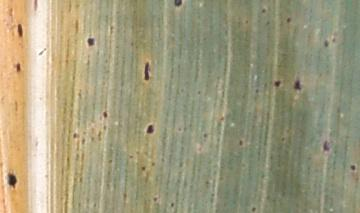tarspot: (6, 172, 18, 188), (142, 61, 151, 81), (16, 21, 24, 37), (86, 36, 96, 47), (322, 140, 331, 152), (145, 124, 155, 134), (293, 79, 302, 90), (14, 61, 22, 73), (274, 78, 282, 87), (200, 129, 208, 138), (174, 1, 183, 8), (285, 15, 292, 24), (323, 38, 330, 47), (237, 138, 244, 147), (102, 109, 108, 119), (32, 1, 38, 11), (350, 163, 357, 171), (250, 206, 257, 213), (169, 201, 176, 208), (261, 5, 267, 13), (152, 196, 158, 202), (141, 165, 147, 171), (72, 132, 78, 138)
